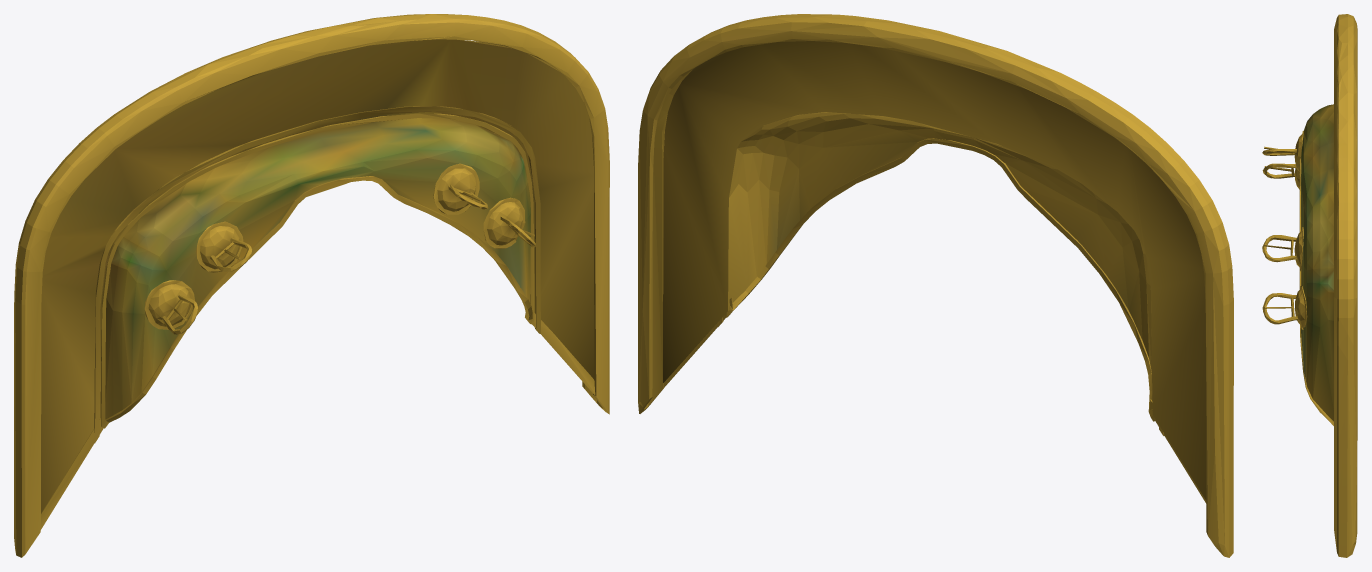
File: saddle_with_jewel_beetle_ornamentation_2c99a372.glb
3 renders of one model, left to right at view 1: azimuth 30°, elevation 25°; view 2: azimuth 150°, elevation 25°; view 3: azimuth 270°, elevation 25°, orthographic. The views are drawn at different scales.
Visible parts, largest first — view 1: SM_24TR0009_Low_01 - Default_0; view 2: SM_24TR0009_Low_01 - Default_0; view 3: SM_24TR0009_Low_01 - Default_0.
Boxes of the visible parts, x1,y1,x2,y2 form: SM_24TR0009_Low_01 - Default_0: [14, 14, 609, 557]; SM_24TR0009_Low_01 - Default_0: [638, 14, 1233, 557]; SM_24TR0009_Low_01 - Default_0: [1262, 14, 1357, 557].
Bounding box in the file's own units: 9.88 × 7.23 × 1.66.
